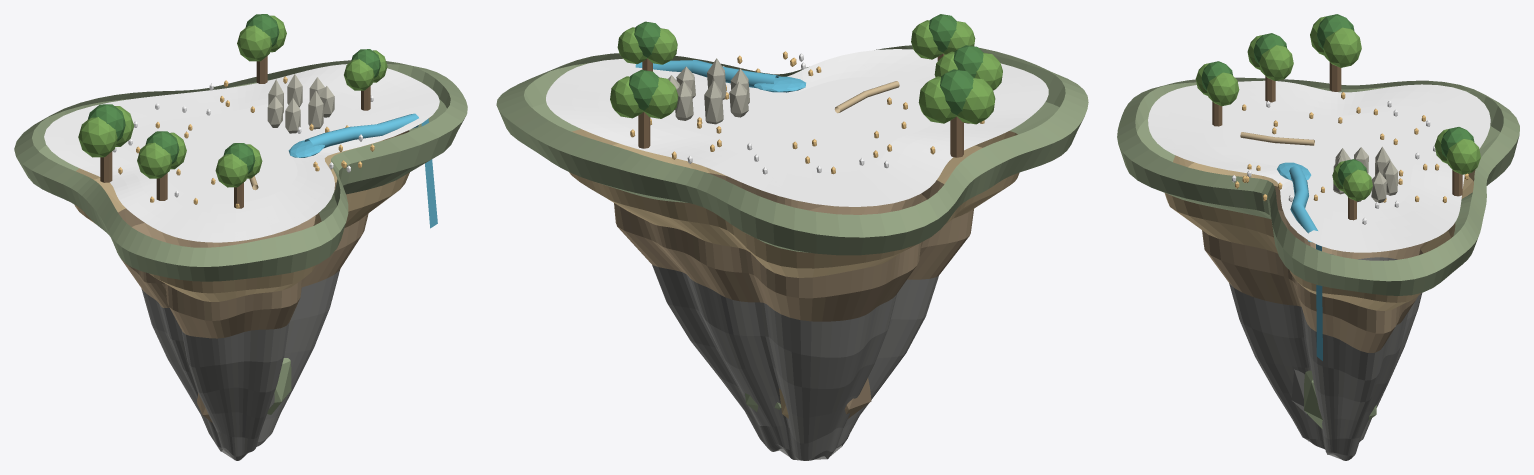
The model's file is FI-002-Windbell-Orchard.glb.
The picture shows the model from 3 angles, left to right: view 1: azimuth 30°, elevation 25°; view 2: azimuth 150°, elevation 25°; view 3: azimuth 270°, elevation 25°; orthographic projection. The views are drawn at different scales.
Visible parts, largest first — view 1: FI-002_StratifiedFloatingCliff, FI-002_BuildableTop, MeadowCreek, OrchardTree_00_Canopy_00, OrchardTree_03_Canopy_00, OrchardTree_01_Canopy_00, OrchardTree_02_Canopy_00, OrchardTree_04_Canopy_00, OrchardTree_00_Canopy_01, FI-002_RootShoulder_04, WaterfallSheet, OrchardTree_01_Canopy_01 (+3 smaller); view 2: FI-002_StratifiedFloatingCliff, FI-002_BuildableTop, MeadowCreek, OrchardTree_00_Canopy_00, OrchardTree_00_Canopy_02, OrchardTree_00_Canopy_01, OrchardTree_03_Canopy_00, OrchardTree_03_Canopy_02, OrchardTree_03_Canopy_01, OrchardTree_02_Canopy_02, OrchardTree_02_Canopy_01, OrchardTree_04_Canopy_00 (+6 smaller); view 3: FI-002_StratifiedFloatingCliff, FI-002_BuildableTop, OrchardTree_00_Canopy_02, MeadowCreek, OrchardTree_03_Canopy_02, OrchardTree_01_Canopy_02, OrchardTree_02_Canopy_02, OrchardTree_04_Canopy_02, FI-002_RootShoulder_04, OrchardTree_00_Canopy_01, WaterfallSheet, OrchardTree_03_Canopy_01 (+4 smaller).
Part boxes in pixels (left/top/right/bottom): FI-002_StratifiedFloatingCliff: left=14, top=60, right=467, bottom=460; FI-002_BuildableTop: left=44, top=64, right=439, bottom=242; MeadowCreek: left=304, top=113, right=418, bottom=148; OrchardTree_00_Canopy_00: left=78, top=117, right=117, bottom=157; OrchardTree_03_Canopy_00: left=237, top=25, right=271, bottom=61; OrchardTree_01_Canopy_00: left=137, top=142, right=171, bottom=178; OrchardTree_02_Canopy_00: left=215, top=153, right=248, bottom=187; OrchardTree_04_Canopy_00: left=344, top=59, right=374, bottom=90; OrchardTree_00_Canopy_01: left=88, top=104, right=125, bottom=141; FI-002_RootShoulder_04: left=267, top=358, right=291, bottom=414; WaterfallSheet: left=421, top=118, right=437, bottom=228; OrchardTree_01_Canopy_01: left=145, top=131, right=179, bottom=164; FI-002_StratifiedFloatingCliff: left=496, top=45, right=1088, bottom=460; FI-002_BuildableTop: left=546, top=49, right=1048, bottom=206; MeadowCreek: left=635, top=60, right=778, bottom=88; OrchardTree_00_Canopy_00: left=956, top=78, right=995, bottom=124; OrchardTree_00_Canopy_02: left=918, top=76, right=956, bottom=123; OrchardTree_00_Canopy_01: left=940, top=69, right=973, bottom=115; OrchardTree_03_Canopy_00: left=643, top=77, right=678, bottom=118; OrchardTree_03_Canopy_02: left=610, top=76, right=643, bottom=118; OrchardTree_03_Canopy_01: left=629, top=69, right=658, bottom=110; OrchardTree_02_Canopy_02: left=911, top=20, right=942, bottom=59; OrchardTree_02_Canopy_01: left=929, top=14, right=956, bottom=52; OrchardTree_04_Canopy_00: left=647, top=28, right=677, bottom=64; FI-002_StratifiedFloatingCliff: left=1117, top=77, right=1519, bottom=460; FI-002_BuildableTop: left=1148, top=80, right=1490, bottom=252; OrchardTree_00_Canopy_02: left=1323, top=27, right=1361, bottom=67; MeadowCreek: left=1289, top=165, right=1317, bottom=242; OrchardTree_03_Canopy_02: left=1446, top=139, right=1480, bottom=174; OrchardTree_01_Canopy_02: left=1259, top=45, right=1293, bottom=80; OrchardTree_02_Canopy_02: left=1207, top=72, right=1239, bottom=106; OrchardTree_04_Canopy_02: left=1342, top=169, right=1372, bottom=201; FI-002_RootShoulder_04: left=1304, top=370, right=1322, bottom=428; OrchardTree_00_Canopy_01: left=1317, top=14, right=1354, bottom=49; WaterfallSheet: left=1316, top=244, right=1322, bottom=360; OrchardTree_03_Canopy_01: left=1441, top=127, right=1474, bottom=157.
Size of the model in its own units: 14.24 by 12.25 by 12.13.
